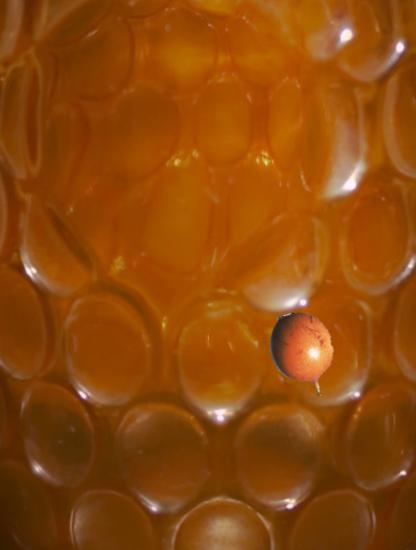Granadilla: (259, 311, 348, 400)
